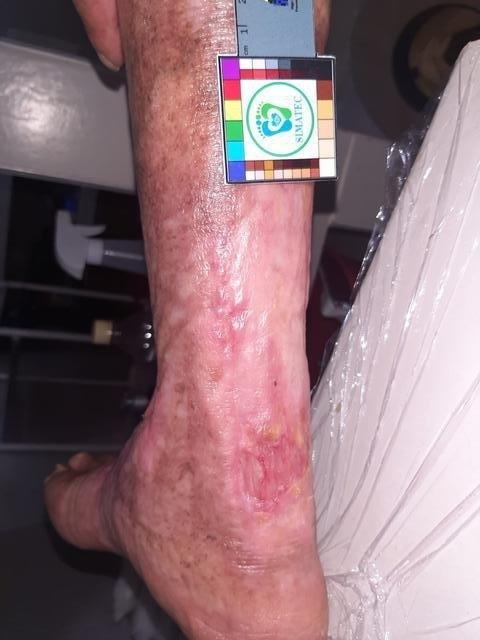wound: (242, 411, 311, 513)
